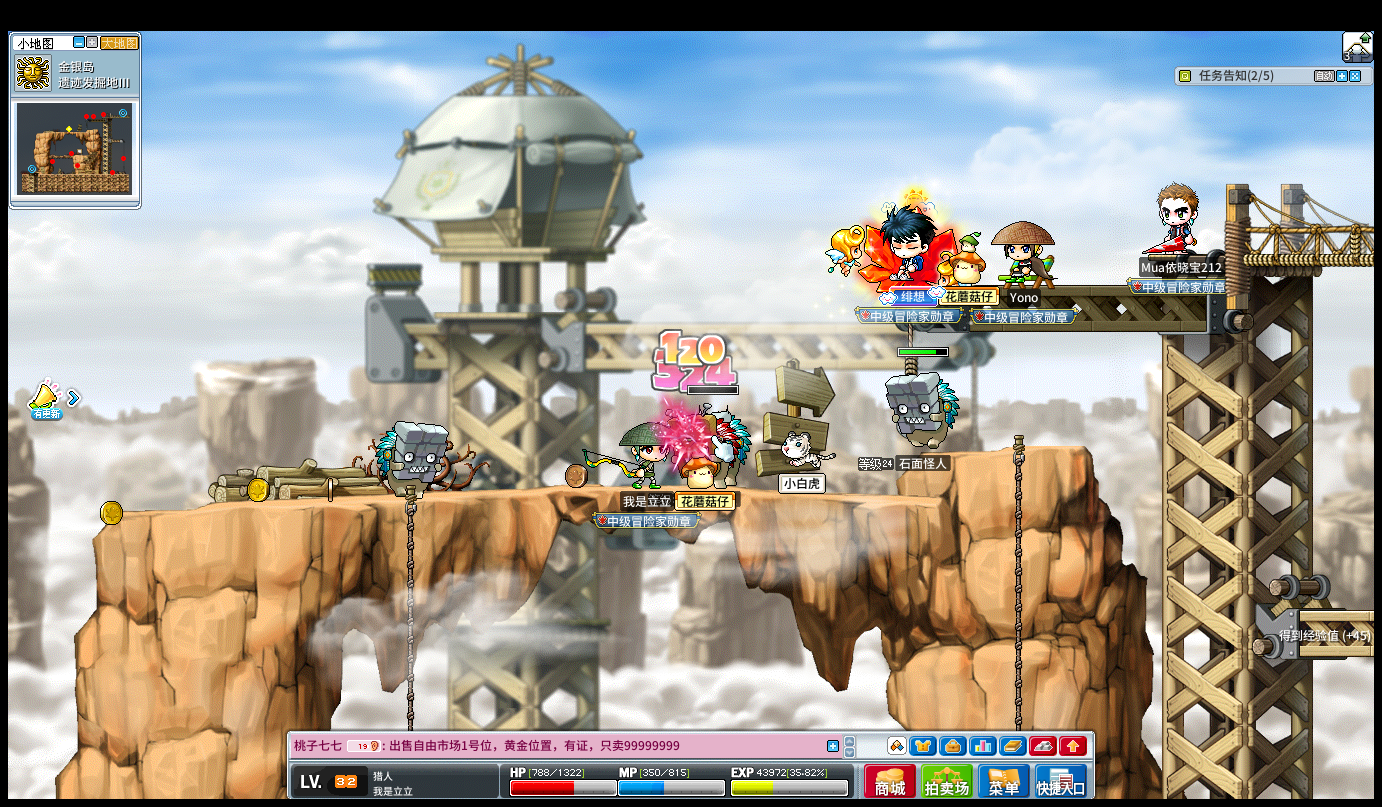floor: (96, 481, 877, 511), (101, 483, 1033, 500), (951, 443, 1089, 458), (1299, 605, 1376, 619)
monster: (884, 371, 959, 450), (375, 420, 449, 499)
rope: (403, 479, 417, 807), (1010, 433, 1025, 726), (404, 482, 417, 701)
